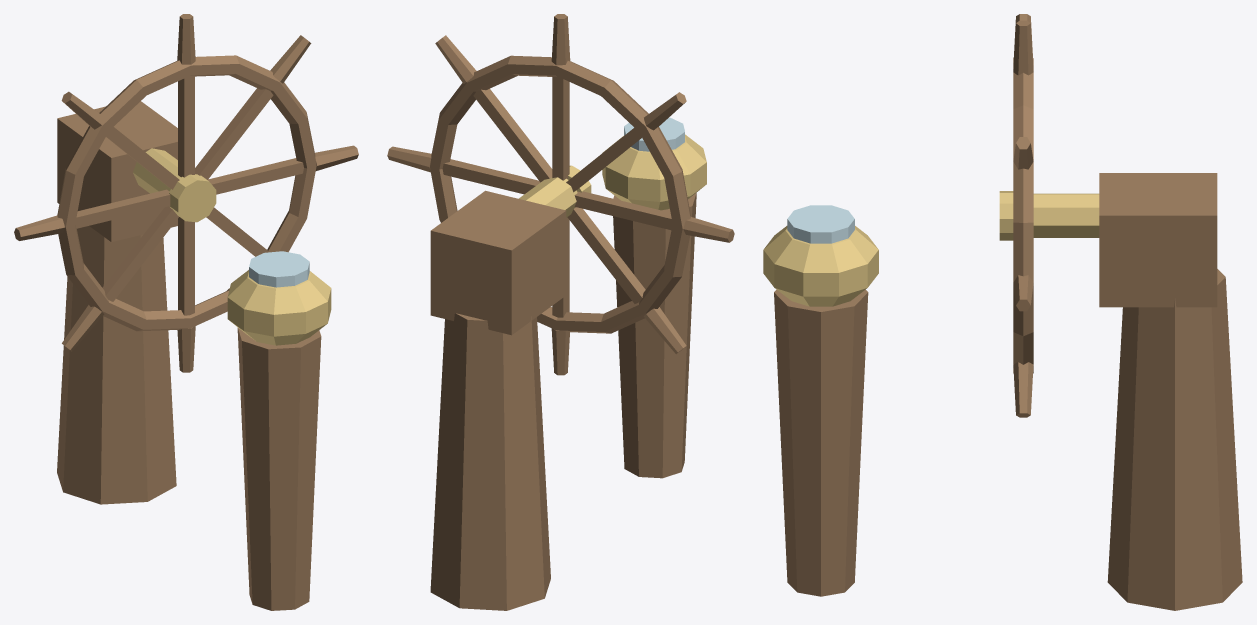
Rendered from CR_Timon.fbx.
3 views of the same model, side by side, from view 1: azimuth 30°, elevation 25°; view 2: azimuth 150°, elevation 25°; view 3: azimuth 270°, elevation 25° (orthographic). The views are drawn at different scales.
Parts seen in each view (by area): view 1: CR_Timon; view 2: CR_Timon; view 3: CR_Timon.
Boxes of the visible parts, left/top/right/bottom form: CR_Timon: left=14, top=14, right=358, bottom=610; CR_Timon: left=387, top=14, right=734, bottom=610; CR_Timon: left=763, top=14, right=1242, bottom=610.
Bounding box in the file's own units: 1.26 × 1.83 × 1.42.
